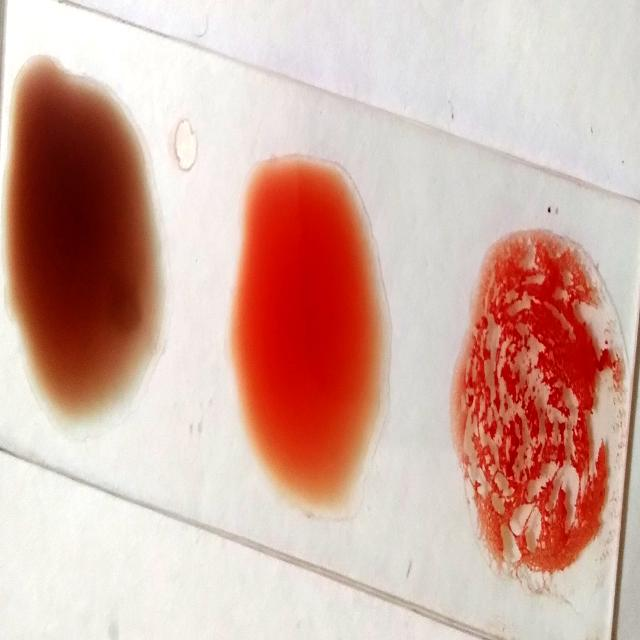D: (463, 223, 625, 578)
